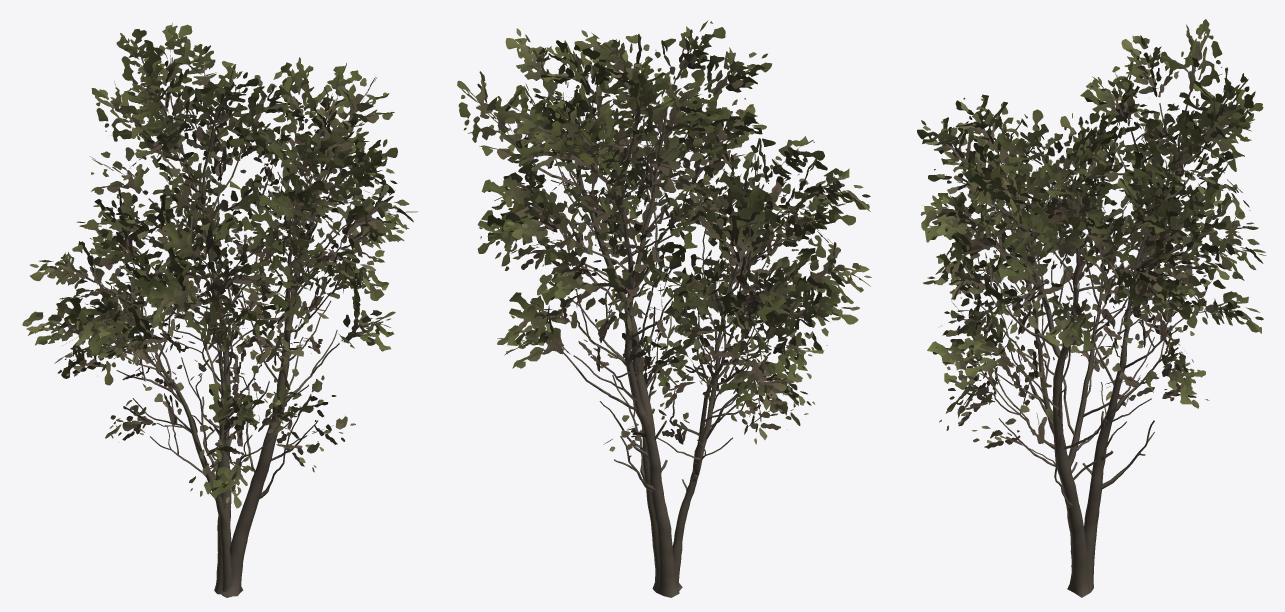
File: SM_BlackAlder_Field_03_PP_LOD5.gltf
3 views of the same model, side by side, from view 1: azimuth 30°, elevation 25°; view 2: azimuth 150°, elevation 25°; view 3: azimuth 270°, elevation 25° (orthographic). The views are drawn at different scales.
Parts seen in each view (by area): view 1: SM_BlackAlder_Field_03_PP; view 2: SM_BlackAlder_Field_03_PP; view 3: SM_BlackAlder_Field_03_PP.
Part boxes in pixels (x1,y1,x2,y2): SM_BlackAlder_Field_03_PP: (22, 23, 417, 597); SM_BlackAlder_Field_03_PP: (457, 20, 871, 597); SM_BlackAlder_Field_03_PP: (917, 19, 1266, 597).
Bounding box in the file's own units: 11.51 × 16.58 × 9.92.
Materials: 2 (2 with a texture image).
